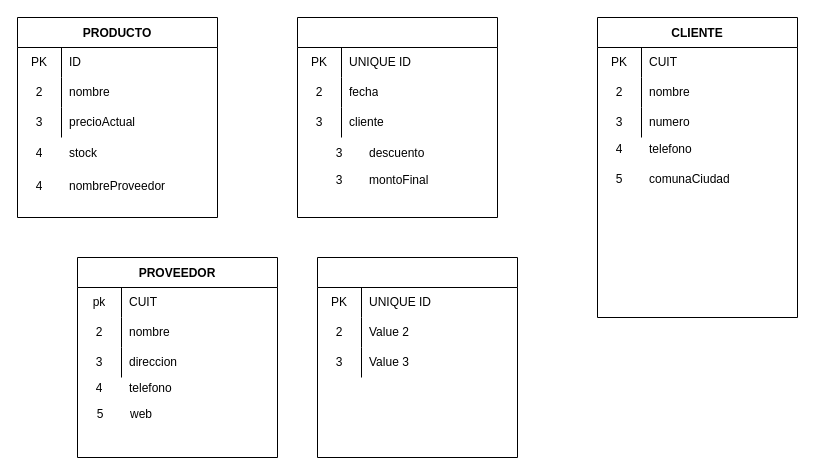
Some shapes in this 815 by 475 pixel diagram are drawn without their labels. Each missing label, with the box of its shape:
CATEGORIA: (316, 256, 518, 458)
VENTA: (296, 16, 498, 218)
